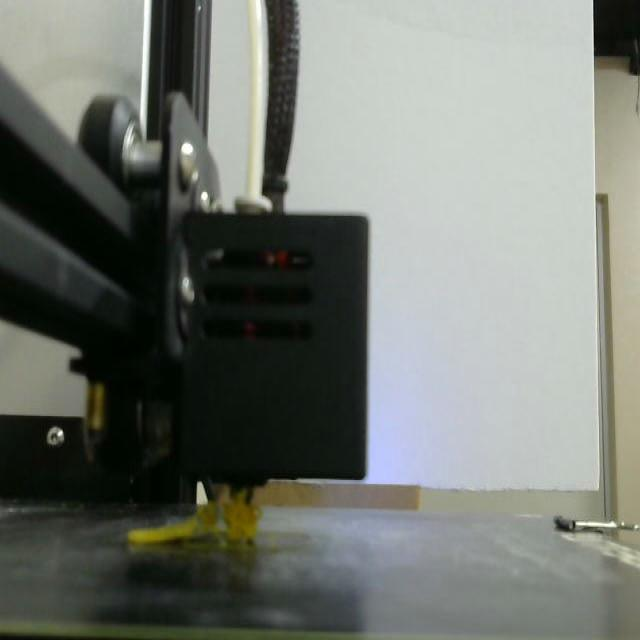spaghetti: (128, 485, 261, 545)
